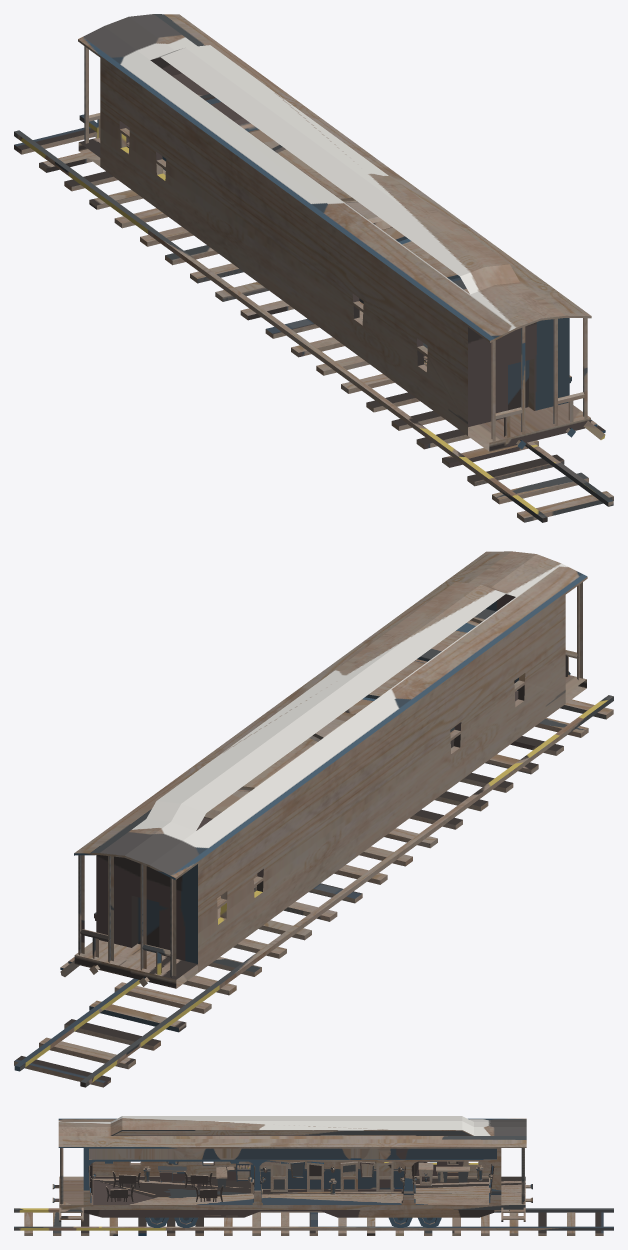
File: Train_steal.obj
3 renders of one model, top to bottom at view 1: azimuth 30°, elevation 25°; view 2: azimuth 150°, elevation 25°; view 3: azimuth 270°, elevation 25°, orthographic. The views are drawn at different scales.
Visible parts, largest first — view 1: Ladder, Rails, Door_1; view 2: Ladder, Rails, Door_8; view 3: Ladder, Rails, Wine_Cabinet, Door_5, Door_3, Door_6, Door_4, Concierge_desk, Decoration_Table_3, Decoration_Table_4, Decoration_Table_3.001, Decoration_Table_4.001 (+8 smaller).
Boxes of the visible parts, x1,y1,x2,y2 form: Ladder: (78,14,605,451); Rails: (14,114,613,522); Door_1: (508,360,529,410); Ladder: (60,551,587,988); Rails: (14,695,613,1087); Door_8: (137,897,159,947); Ladder: (52,1116,532,1221); Rails: (14,1208,613,1235); Wine_Cabinet: (216,1161,250,1188); Door_5: (340,1161,357,1191); Door_3: (270,1161,287,1191); Door_6: (376,1161,393,1191); Door_4: (307,1161,323,1191); Concierge_desk: (436,1166,469,1182); Decoration_Table_3: (184,1171,212,1187); Decoration_Table_4: (195,1185,223,1201); Decoration_Table_3.001: (112,1171,140,1187); Decoration_Table_4.001: (106,1185,133,1201).
Size of the model in its own units: 4.03 by 5.96 by 31.51.
